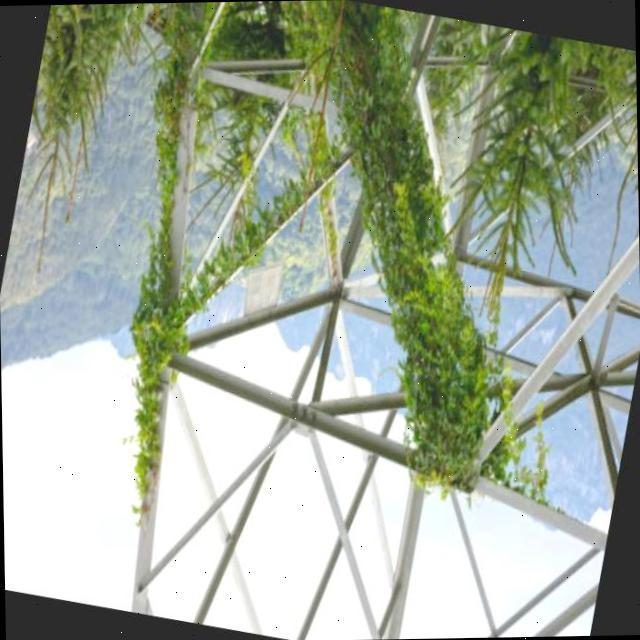critical vegetation: (65, 0, 640, 607)
